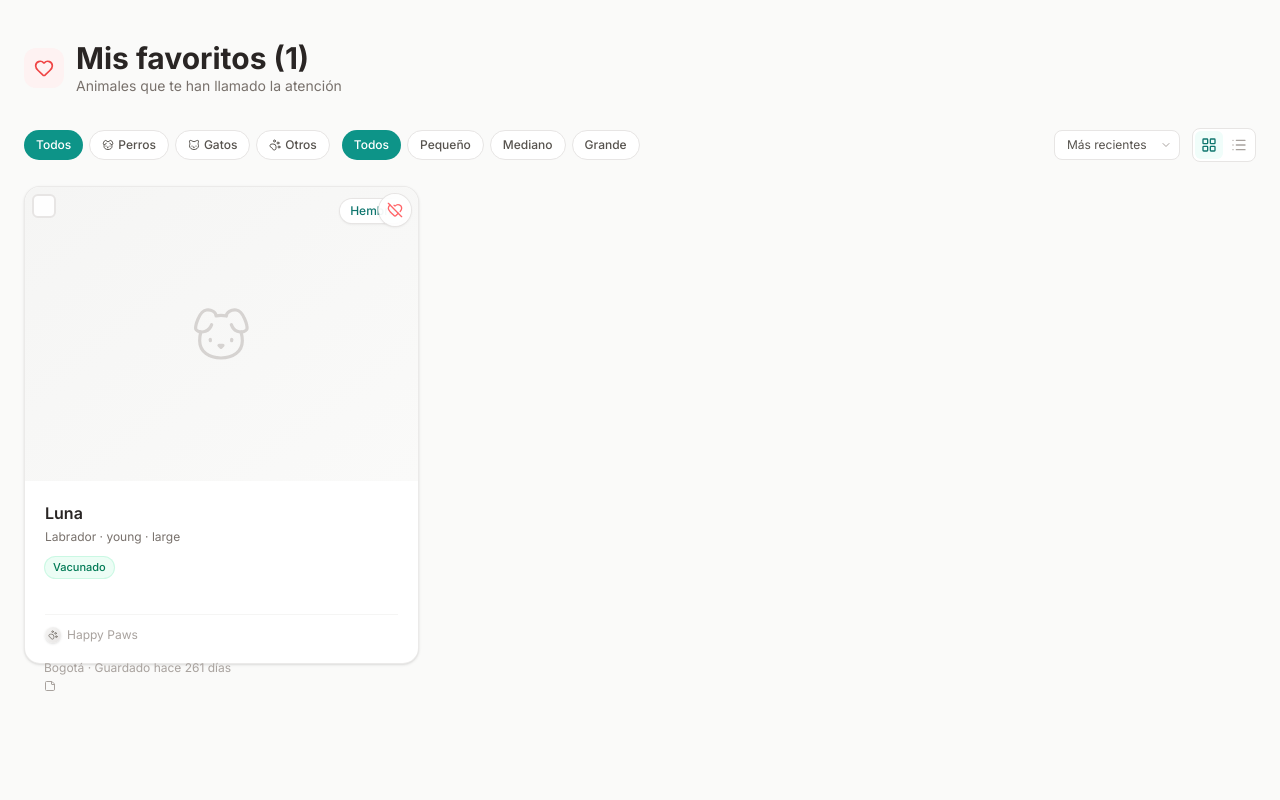
Test: FavoritosPage › shows confirmation dialog when remove button is clicked
The width and height of the screenshot is (1280, 800).
Click the button named "Quitar de favoritos". click: (395, 210)
box: [379, 194, 411, 226]
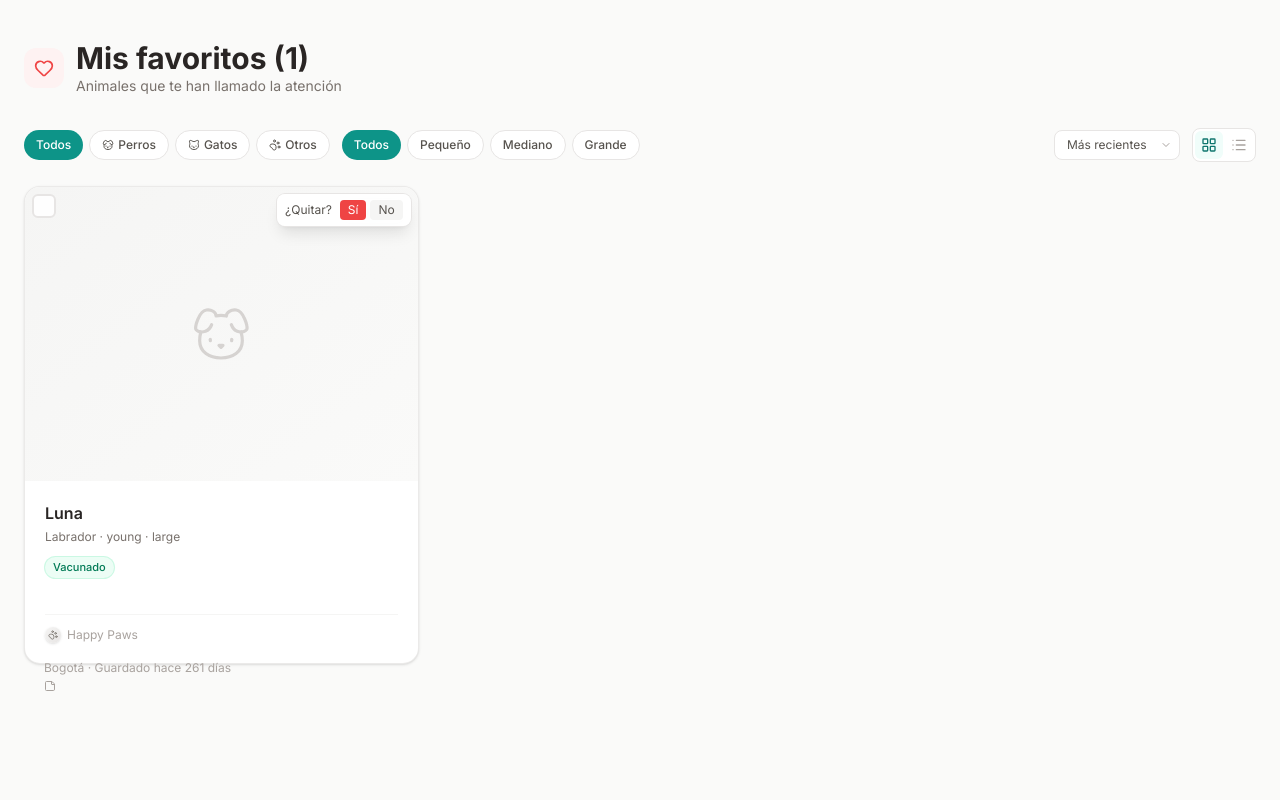
Now the text "¿Quitar?" is shown, box [285, 202, 332, 218]
Now the button "Sí" is shown, box [340, 200, 366, 220]
Now the button "No" is shown, box [370, 200, 403, 220]
